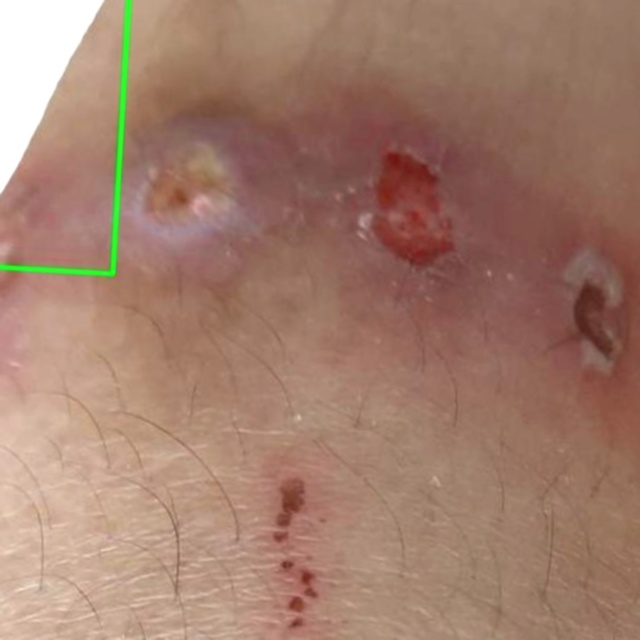Contact Dermatitis: (0, 0, 129, 273)
